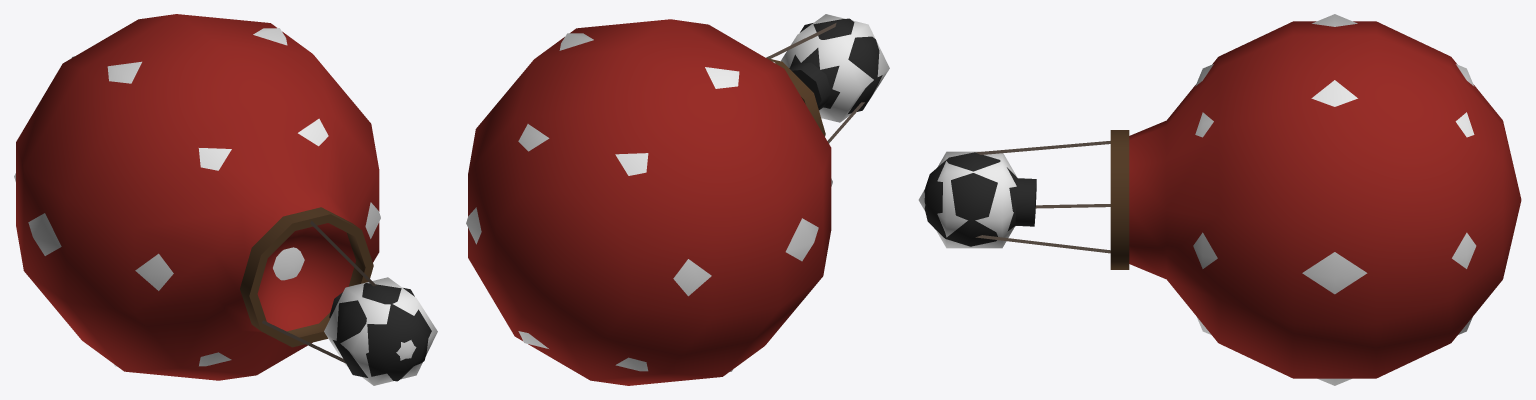
The model's file is balloon_03.fbx.
3 renders of one model, left to right at view 1: azimuth 30°, elevation 25°; view 2: azimuth 150°, elevation 25°; view 3: azimuth 270°, elevation 25°, orthographic.
Parts seen in each view (by area): view 1: Sphere, balloon_phy1, balloon_phy2; view 2: Sphere, balloon_phy1, balloon_phy2; view 3: Sphere, balloon_phy1, balloon_phy2.
Part boxes in pixels (x1,y1,x2,y2): Sphere: [16, 14, 431, 381]; balloon_phy1: [14, 28, 380, 366]; balloon_phy2: [324, 277, 437, 385]; Sphere: [468, 18, 882, 385]; balloon_phy1: [466, 33, 832, 371]; balloon_phy2: [781, 14, 889, 122]; Sphere: [924, 21, 1521, 378]; balloon_phy1: [1193, 14, 1476, 385]; balloon_phy2: [918, 151, 1017, 248].
Bounding box in the file's own units: 32300 × 20000 × 19499.
